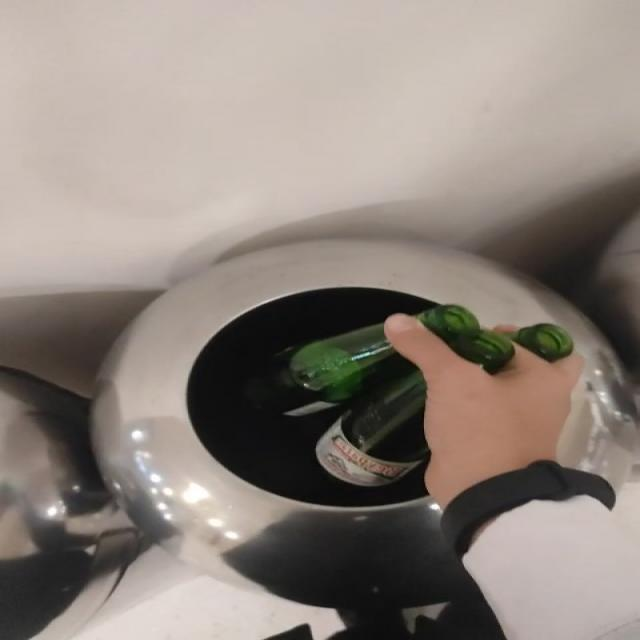glass: (244, 324, 429, 488), (416, 305, 575, 374)
